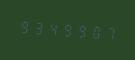four: (45, 18, 58, 39)
nine: (17, 16, 30, 37), (59, 19, 72, 40), (73, 20, 86, 41)
seven: (101, 22, 114, 43)
three: (31, 17, 44, 38)
zero: (87, 21, 100, 42)
